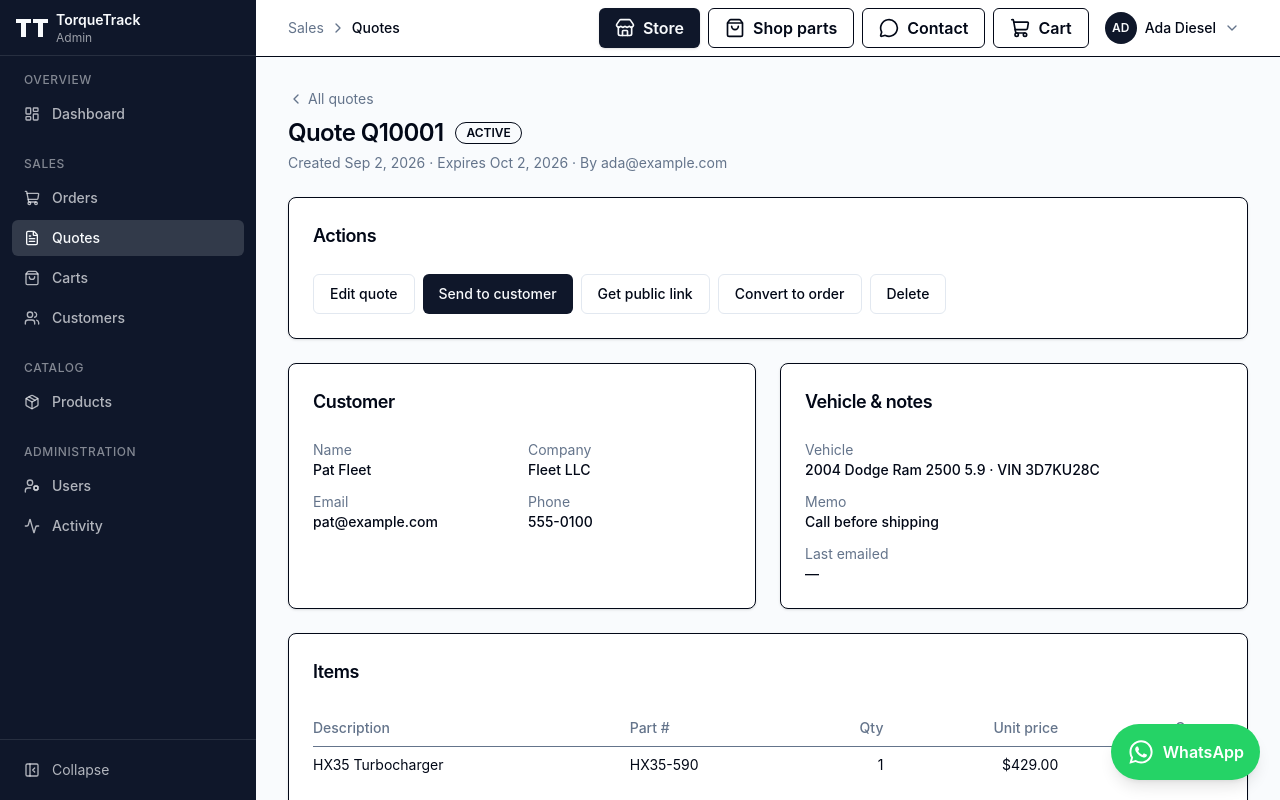
Test: QuoteDetailPage › gets the public link for the customer
What coordinates should you click on to do the following:
click the button "Get public link"
I would click on:
 (645, 294)
Its box is [581,274,710,314].
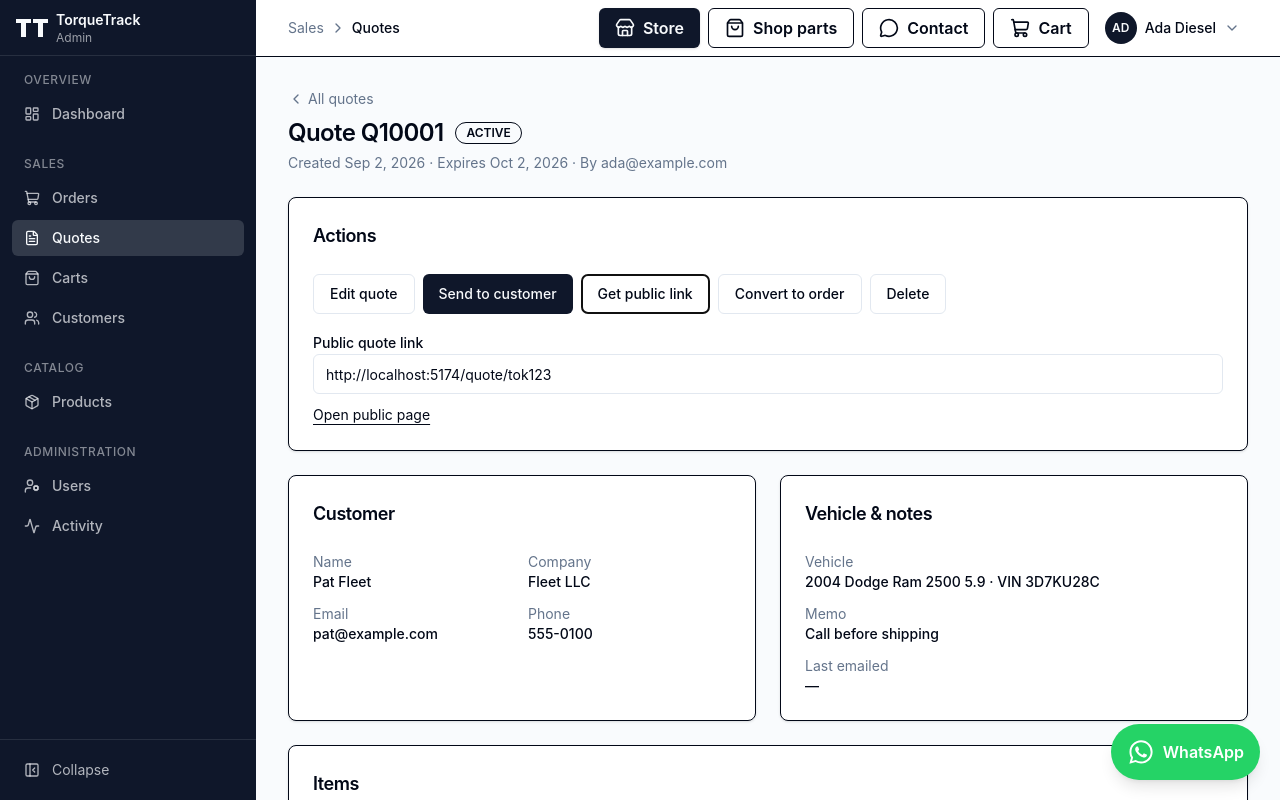
Check: the field labelled "Public quote link" holds "http://localhost:5174/quote/tok123", box [313,354,1223,394]
